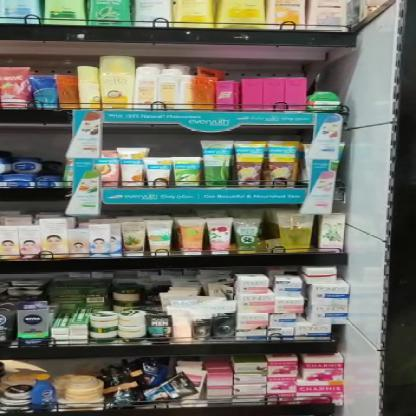EY NAT GLOW ORANGE PEEL OFF AY 90G: (119, 148, 146, 188), (146, 158, 172, 186)
EY RJ CUCUMBER ALOEVERA FACEPAK50G: (172, 156, 200, 184)
